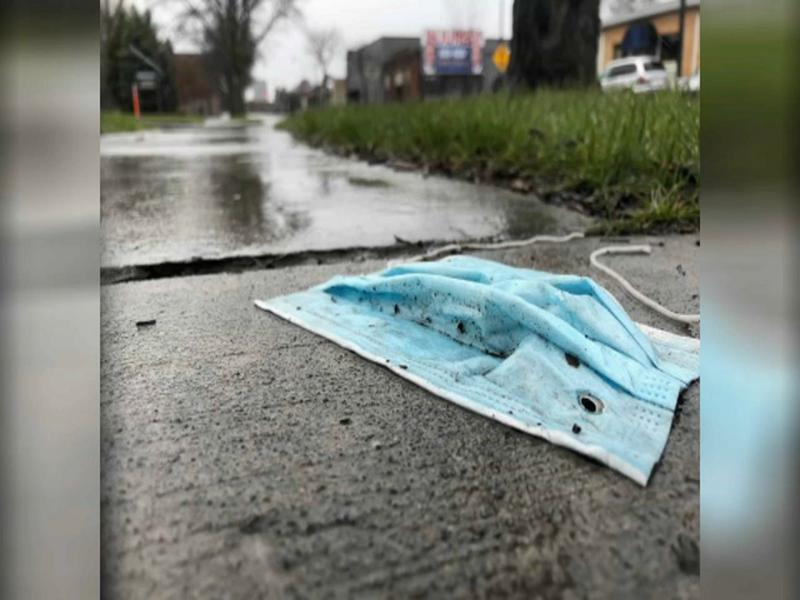mask: (251, 194, 704, 492)
